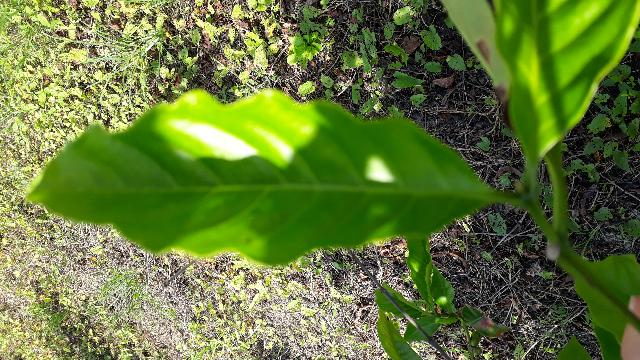healthy: (26, 88, 493, 268)
